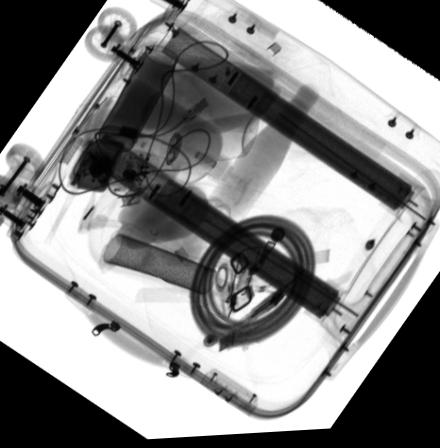Sprayer: (156, 115, 259, 171)
